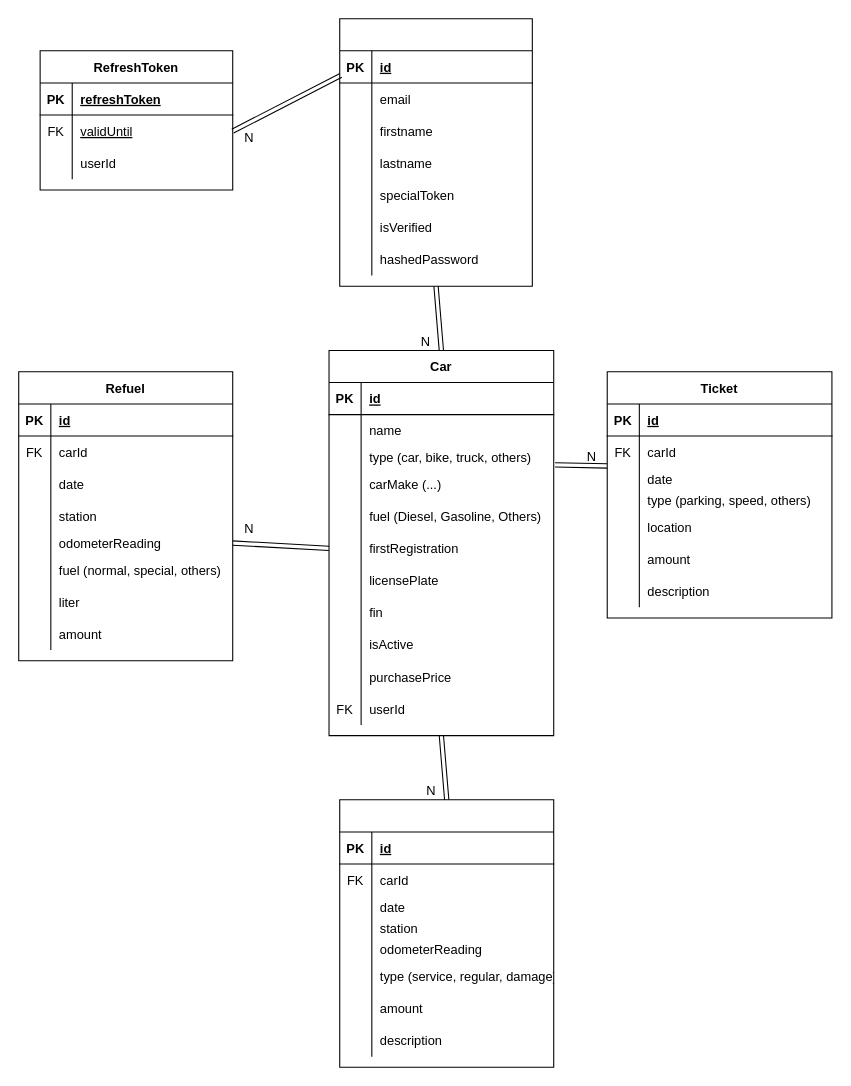
The diagram is 851 pixels wide and 1086 high, and some of its shapes have lost their labels. Each missing label, with the box of its shape:
Repair: (339, 799, 554, 1067)
User: (339, 18, 532, 286)
